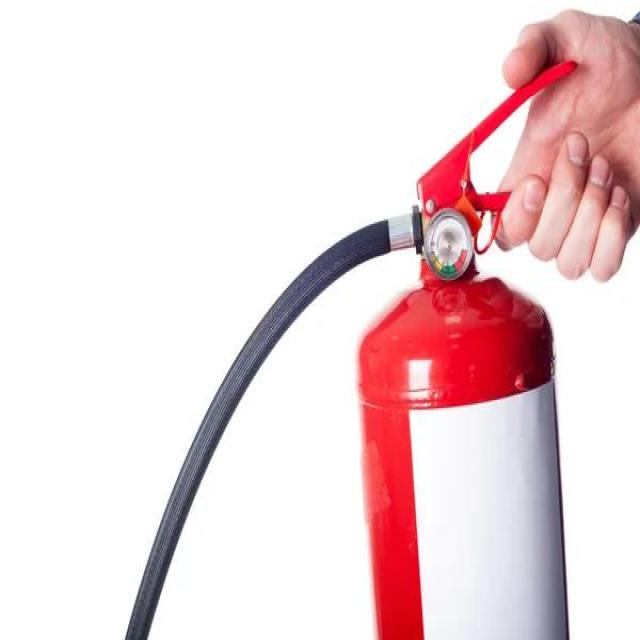fire_extinguisher: (119, 49, 628, 638)
